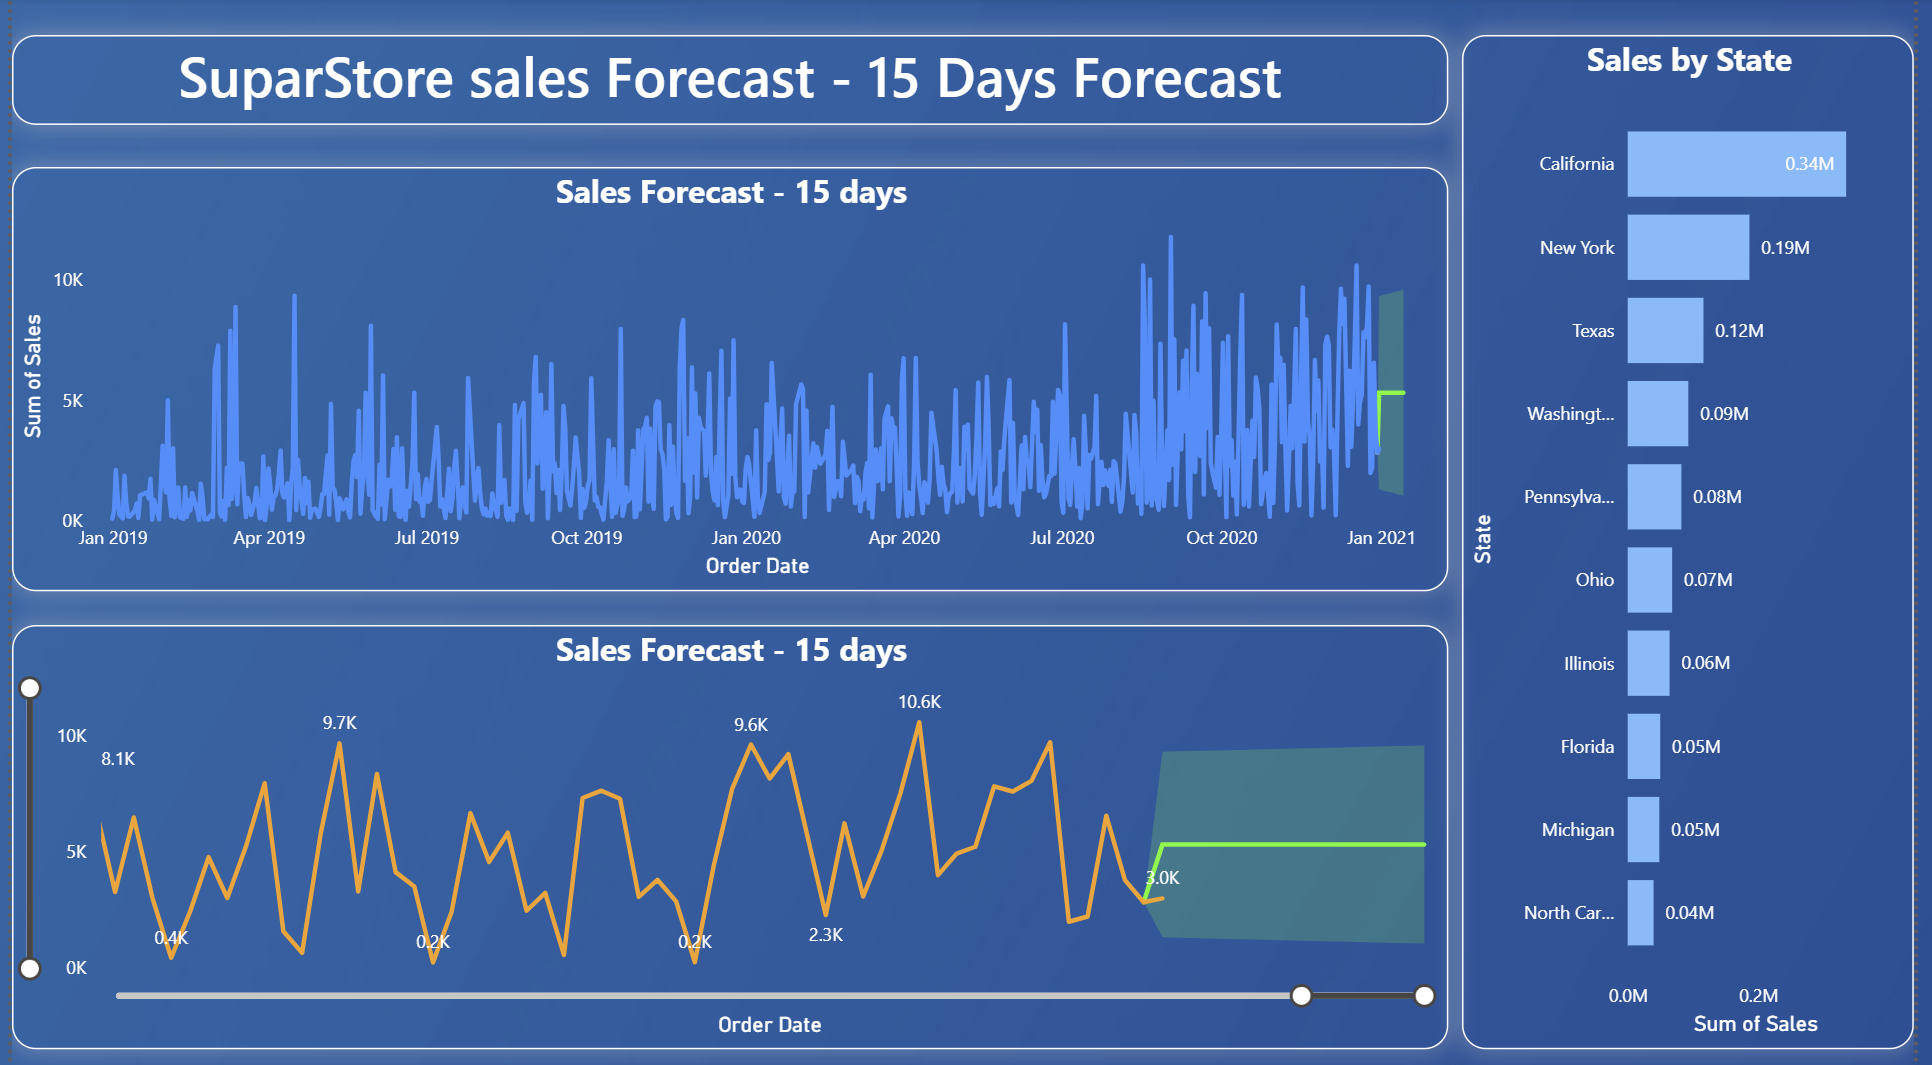

The dashboard page shown, as its layout file describes it:
{"tool":"powerbi","page":{"name":"Forecast","canvas":[1280,720],"ordinal":1},"visuals":[{"type":"lineChart","title":"Sales Forecast - 15 days","fields":{"Y":["Sum(Sheet1.Sales)"],"Category":["Sheet1.Order Date"]},"box":[0,114.4,966.3,285.3],"z":0},{"type":"textbox","box":[0,25.6,966.3,60.6],"z":1000},{"type":"lineChart","title":"Sales Forecast - 15 days","fields":{"Y":["Sum(Sheet1.Sales)"],"Category":["Sheet1.Order Date"]},"box":[0,422.6,966.3,285.3],"z":2000},{"type":"clusteredBarChart","title":"Sales by State","fields":{"Y":["Sum(Sheet1.Sales)"],"Category":["Sheet1.State"]},"box":[975.7,25.6,304.1,682.3],"z":3000}]}

Visuals, with their boxes in screenshot pixels (x1, y1, x2, y2), scaled from the page's 1280x720 canvas onto the 1932x1065 screenshot:
"Sales Forecast - 15 days" lineChart: bbox=(0, 169, 1459, 591)
textbox: bbox=(0, 38, 1459, 128)
"Sales Forecast - 15 days" lineChart: bbox=(0, 625, 1459, 1047)
"Sales by State" clusteredBarChart: bbox=(1473, 38, 1931, 1047)
